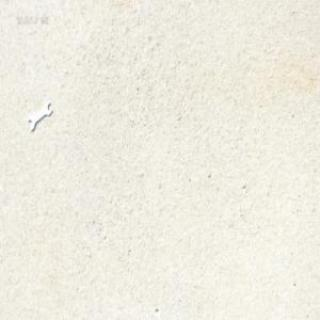Wrenchtrack_idkeyframe: (27, 97, 52, 130)
